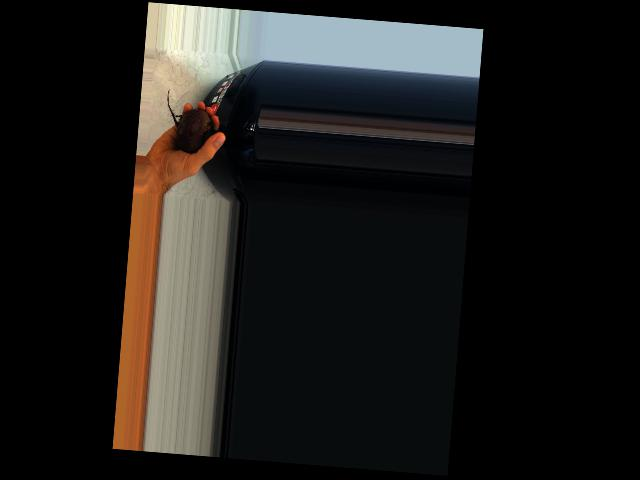beet: (162, 88, 221, 154)
